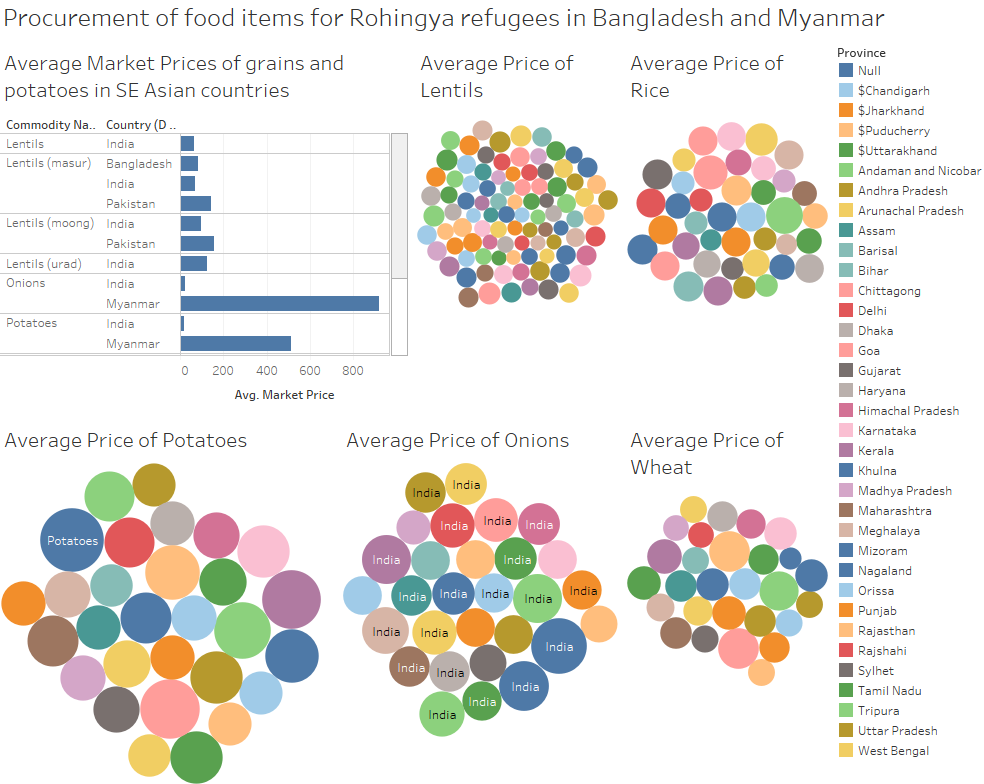

What the dashboard file says about the page in this screenshot:
{"tool":"tableau","page":{"name":"Procurement of food items for Rohingyas refugees in Bangladesh and Myanmar","canvas":[1000,800],"ordinal":0},"visuals":[{"type":"title","box":[0,0,1000,46]},{"type":"worksheet","title":"Average Market Prices of grains and potatoes in SE Asian countries","mark":"Automatic","rows":["commodity_name","country (d_market)"],"cols":["market_price"],"box":[0,46,420,377]},{"type":"worksheet","title":"Average Prices of Lentils in different provinces of India and Bangladesh","mark":"Circle","box":[420,46,210,377]},{"type":"worksheet","title":"Average Price of Rice in different provinces of India and Bangladesh","mark":"Circle","box":[630,46,210,377]},{"type":"legend","title":"Average Prices of Lentils in different provinces of India and Bangladesh","param":"[federated.1io3ziw0gciwcs1di11yq03dnewt].[none:province:nk]","box":[840,46,160,726]},{"type":"worksheet","title":"Average Price of Potatoes in different provinces of India and Bangladesh","mark":"Circle","box":[0,423,346,377]},{"type":"worksheet","title":"Average Price of Onions in different provinces of India and Bangladesh","mark":"Circle","box":[346,423,284,377]},{"type":"worksheet","title":"Average Price of Wheat in different provinces of India and Bangladesh","mark":"Circle","box":[630,423,210,377]}]}

Visuals, with their boxes in screenshot pixels (x1, y1, x2, y2), scaled from the page's 1000x800 canvas onto the 984x784 screenshot:
title: rect(0, 0, 983, 45)
"Average Market Prices of grains and potatoes in SE Asian countries" worksheet: rect(0, 45, 413, 415)
"Average Prices of Lentils in different provinces of India and Bangladesh" worksheet (Circle marks): rect(413, 45, 620, 415)
"Average Price of Rice in different provinces of India and Bangladesh" worksheet (Circle marks): rect(620, 45, 827, 415)
"Average Prices of Lentils in different provinces of India and Bangladesh" legend: rect(827, 45, 983, 757)
"Average Price of Potatoes in different provinces of India and Bangladesh" worksheet (Circle marks): rect(0, 415, 340, 783)
"Average Price of Onions in different provinces of India and Bangladesh" worksheet (Circle marks): rect(340, 415, 620, 783)
"Average Price of Wheat in different provinces of India and Bangladesh" worksheet (Circle marks): rect(620, 415, 827, 783)
